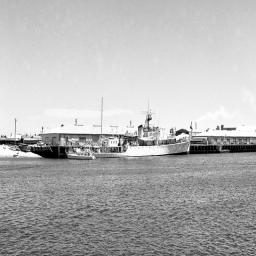Fragata: (30, 96, 195, 159)
